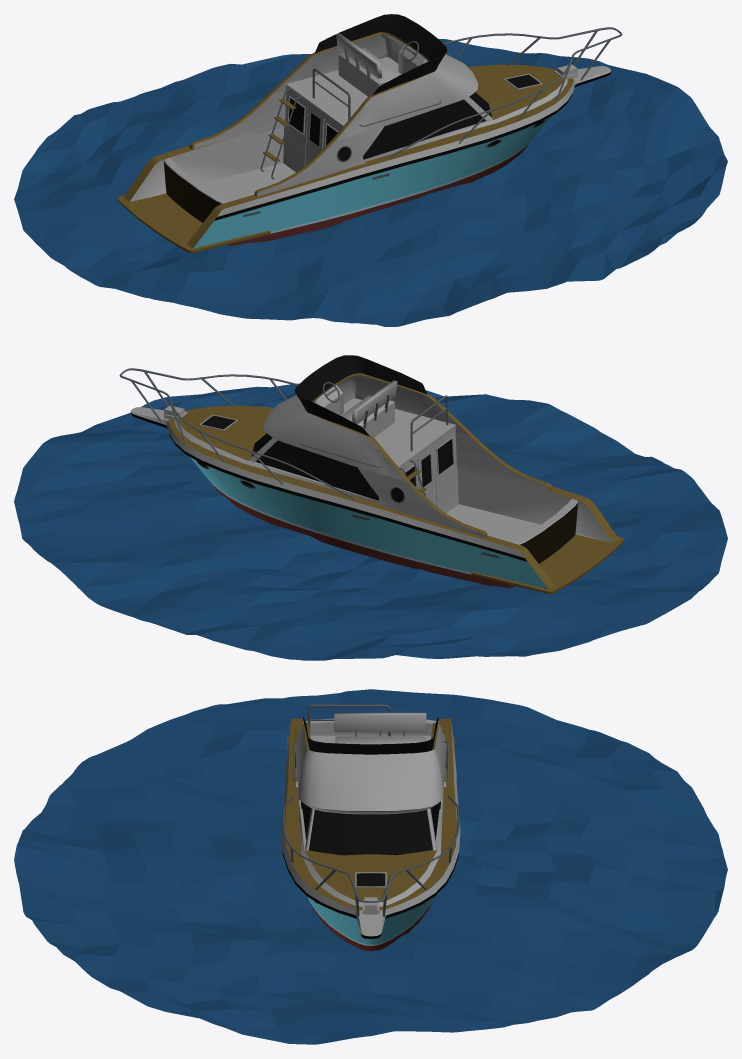
The model's file is Phoenix 29.fbx.
The picture shows the model from 3 angles, top to bottom: view 1: azimuth 30°, elevation 25°; view 2: azimuth 150°, elevation 25°; view 3: azimuth 270°, elevation 25°; orthographic projection. The views are drawn at different scales.
Visible parts, largest first — view 1: Water, Boat, Top, Wood, PAINT_1, Glass, Metal, PAINT_3, Rubber, WOOD_2, PAINT_2; view 2: Water, Boat, Top, Wood, PAINT_1, Glass, Metal, PAINT_3, Rubber, WOOD_2, PAINT_2; view 3: Water, Top, Wood, Glass, Boat, Metal, PAINT_1, Rubber, PAINT_3.
Part boxes in pixels (left/top/right/bottom): Water: left=14, top=39, right=727, bottom=326; Boat: left=130, top=64, right=610, bottom=216; Top: left=195, top=33, right=492, bottom=196; Wood: left=117, top=32, right=573, bottom=252; PAINT_1: left=193, top=116, right=551, bottom=248; Glass: left=289, top=14, right=544, bottom=160; Metal: left=243, top=27, right=622, bottom=217; PAINT_3: left=228, top=141, right=531, bottom=245; Rubber: left=214, top=71, right=610, bottom=220; WOOD_2: left=163, top=161, right=221, bottom=222; PAINT_2: left=270, top=141, right=530, bottom=233; Water: left=14, top=383, right=727, bottom=660; Boat: left=131, top=405, right=611, bottom=557; Top: left=249, top=375, right=546, bottom=537; Wood: left=168, top=373, right=624, bottom=593; PAINT_1: left=190, top=457, right=548, bottom=589; Glass: left=197, top=355, right=453, bottom=501; Metal: left=119, top=368, right=498, bottom=558; PAINT_3: left=209, top=480, right=515, bottom=587; Rubber: left=131, top=412, right=527, bottom=561; WOOD_2: left=520, top=502, right=578, bottom=563; PAINT_2: left=211, top=483, right=471, bottom=574; Water: left=14, top=689, right=727, bottom=1044; Top: left=294, top=712, right=447, bottom=850; Wood: left=285, top=718, right=456, bottom=910; Glass: left=295, top=717, right=446, bottom=901; Boat: left=281, top=718, right=460, bottom=936; Metal: left=282, top=704, right=459, bottom=916; PAINT_1: left=307, top=896, right=434, bottom=944; Rubber: left=282, top=852, right=459, bottom=938; PAINT_3: left=307, top=897, right=434, bottom=951.
Size of the model in its own units: 19.45 by 4.25 by 16.66.
